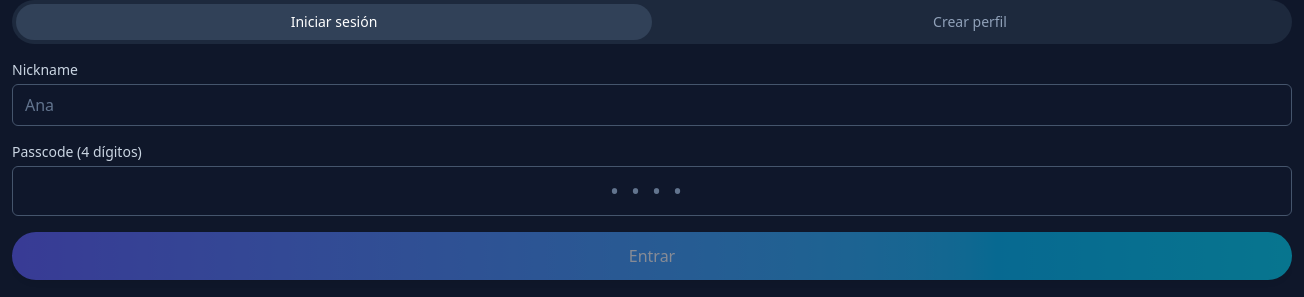
Test: <AuthForm /> › switches to signup mode and updates the button label
The width and height of the screenshot is (1304, 297).
Step 1. Click the tab with test id "mode-signup" → (970, 22), box [652, 4, 1288, 40]
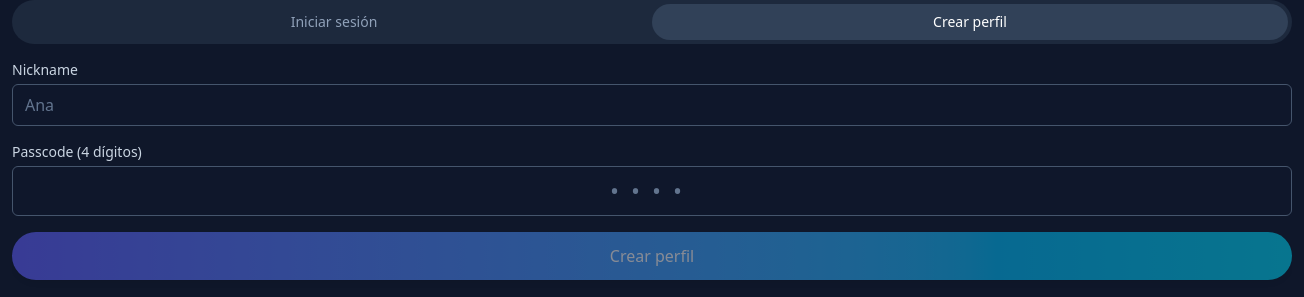
Expected: the button with test id "submit" reads "Crear perfil", [12, 232, 1292, 280]
